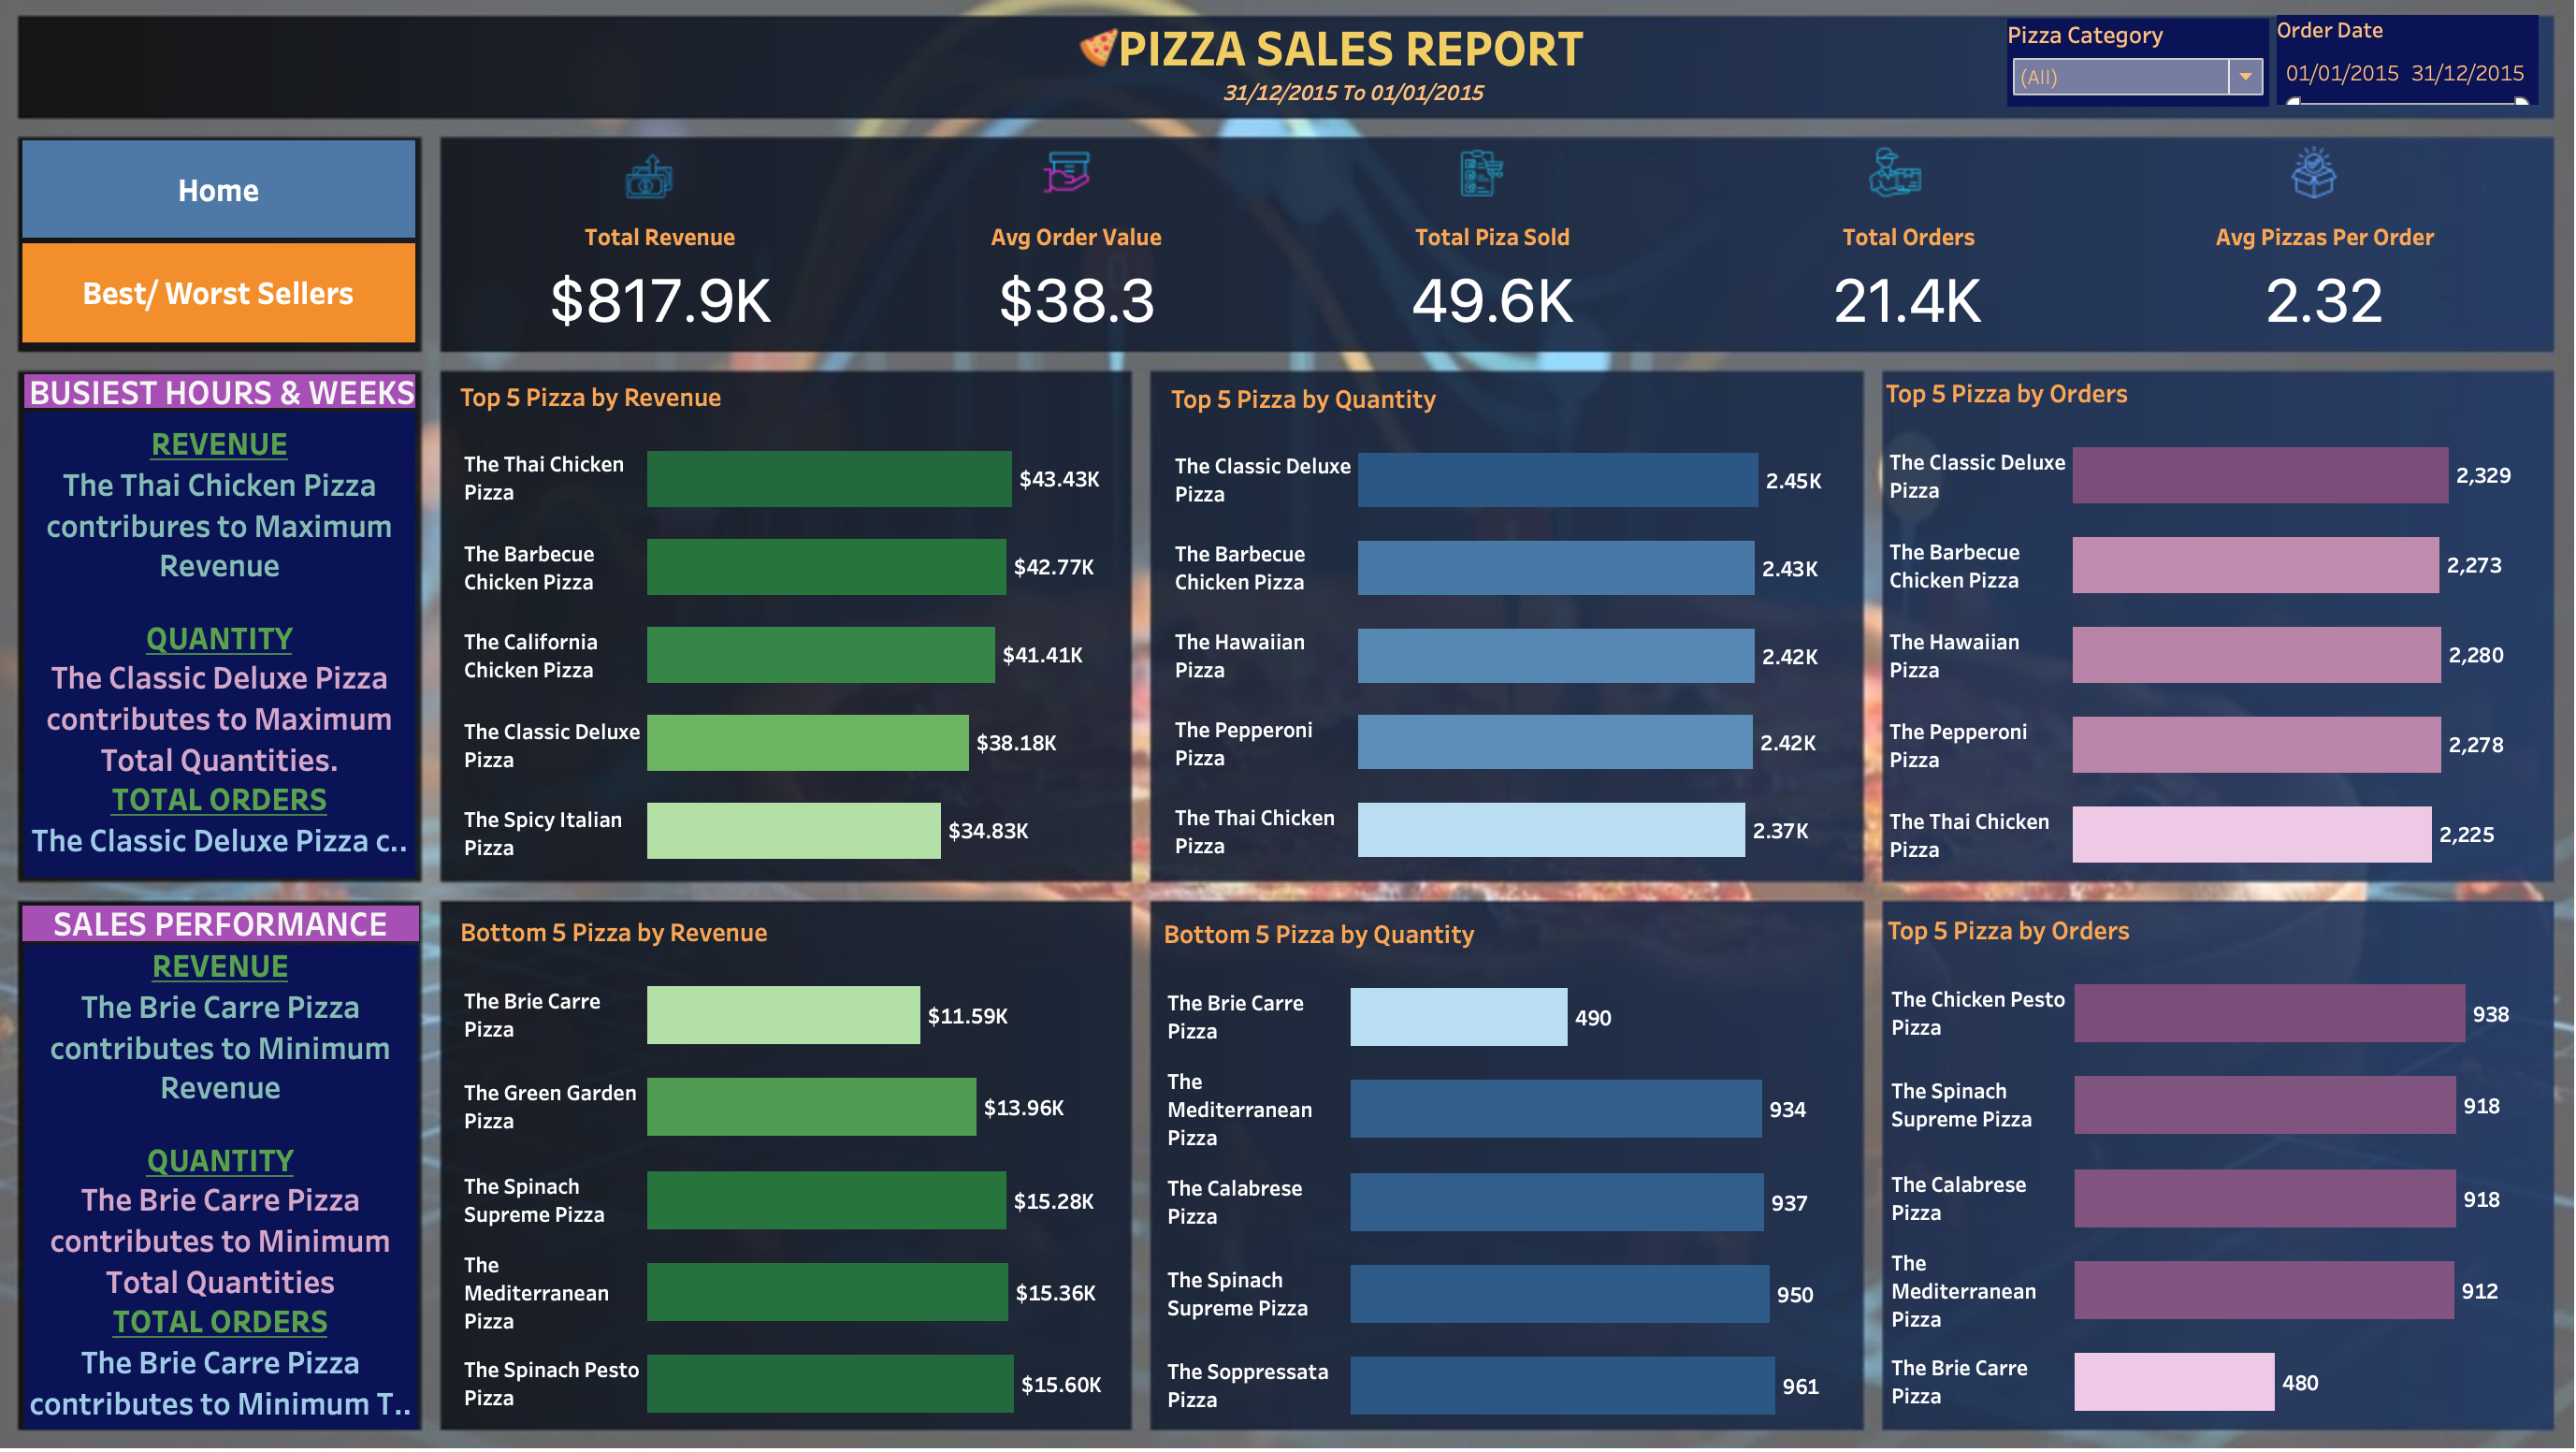

Layout of this report page (visuals, bound fields, positions):
{"tool":"tableau","page":{"name":"Best/ Worst Sellers","canvas":[1400,800],"ordinal":0},"visuals":[{"type":"image","param":"/Users/muhammedmurshid/Documents/Projects/piza/FILES/Pizza Sales Images/Pizza Ta","box":[8,8,1384,784]},{"type":"filter","title":"Date Range","param":"[federated.1atx9nq1vsrr8v107hsxd0hf8qi8].[none:order_date:qk]","box":[1229,21,140,48]},{"type":"text","box":[537.2,23.1,395.5,30.2]},{"type":"filter","title":"Date Range","param":"[federated.1atx9nq1vsrr8v107hsxd0hf8qi8].[none:pizza_category:nk]","box":[1085,23.1,140,47.1]},{"type":"image","param":"/Users/muhammedmurshid/Documents/Projects/piza/FILES/Pizza Sales Images/pizza-sl","box":[588.9,28.4,24.5,21.3]},{"type":"worksheet","title":"Date Range","mark":"Automatic","box":[626.5,48,217.9,26.7]},{"type":"dashboard-object","box":[24,88,210,52]},{"type":"image","param":"/Users/muhammedmurshid/Documents/Projects/piza/FILES/Pizza Sales Images/shipping","box":[561.6,91.4,41,28.5]},{"type":"image","param":"/Users/muhammedmurshid/Documents/Projects/piza/FILES/Pizza Sales Images/delivery","box":[1004.7,91.4,41,28.5]},{"type":"image","param":"/Users/muhammedmurshid/Documents/Projects/piza/FILES/Pizza Sales Images/order (1","box":[1229.1,91.4,41,28.5]},{"type":"image","param":"/Users/muhammedmurshid/Documents/Projects/piza/FILES/Pizza Sales Images/profit-g","box":[339.5,92.6,41,28.5]},{"type":"image","param":"/Users/muhammedmurshid/Documents/Projects/piza/FILES/Pizza Sales Images/order-de","box":[788.3,92.6,34.2,24.9]},{"type":"worksheet","title":"KPI Banner","mark":"Automatic","box":[254,129.4,1111.8,67.7]},{"type":"dashboard-object","box":[24,143,210,53]},{"type":"worksheet","title":"Top 5 Pizza by Orders","mark":"Bar","rows":["pizza_name"],"cols":["Calculation_207517468831629313"],"box":[1015.9,209.8,352.6,272.9]},{"type":"worksheet","title":"Top 5 Pizza by Revenue","mark":"Bar","rows":["pizza_name"],"cols":["Calculation_207517468831150080"],"box":[253.8,212.4,359.6,270.2]},{"type":"text","box":[25,213,209,18]},{"type":"worksheet","title":"Top 5 Pizza by Quantity ","mark":"Bar","rows":["pizza_name"],"cols":["quantity"],"box":[634,213,367,268]},{"type":"text","box":[25,233,209,249]},{"type":"worksheet","title":"Bottom 5 Pizza by Orders","mark":"Bar","rows":["pizza_name"],"cols":["Calculation_207517468831629313"],"box":[1016.8,496.9,350.9,279.1]},{"type":"text","box":[24,497,212,19]},{"type":"worksheet","title":"Bottom 5 Pizza by Revenue","mark":"Bar","rows":["pizza_name"],"cols":["Calculation_207517468831150080"],"box":[253.8,497.8,360.5,279.1]},{"type":"worksheet","title":"Bottom 5 Pizza by Quantity","mark":"Bar","rows":["pizza_name"],"cols":["quantity"],"box":[630,498.7,370.1,279.1]},{"type":"text","box":[25,518,210,259]}]}

Visuals, with their boxes in screenshot pixels (x1, y1, x2, y2), scaled from the page's 1400x800 canvas onto the 2576x1452 screenshot:
image: 15, 15, 2561, 1437
"Date Range" filter: 2262, 38, 2519, 125
text: 989, 42, 1716, 96
"Date Range" filter: 1996, 42, 2254, 127
image: 1083, 51, 1129, 90
"Date Range" worksheet: 1152, 87, 1554, 136
dashboard-object: 44, 160, 430, 254
image: 1034, 166, 1108, 218
image: 1848, 166, 1924, 218
image: 2262, 166, 2337, 218
image: 625, 168, 700, 220
image: 1451, 168, 1513, 213
"KPI Banner" worksheet: 468, 235, 2513, 357
dashboard-object: 44, 259, 430, 356
"Top 5 Pizza by Orders" worksheet (Bar marks): 1869, 381, 2518, 876
"Top 5 Pizza by Revenue" worksheet (Bar marks): 467, 385, 1129, 876
text: 46, 386, 430, 419
"Top 5 Pizza by Quantity " worksheet (Bar marks): 1166, 386, 1842, 873
text: 46, 423, 430, 875
"Bottom 5 Pizza by Orders" worksheet (Bar marks): 1871, 902, 2516, 1408
text: 44, 902, 434, 937
"Bottom 5 Pizza by Revenue" worksheet (Bar marks): 467, 904, 1130, 1410
"Bottom 5 Pizza by Quantity" worksheet (Bar marks): 1159, 905, 1840, 1412
text: 46, 940, 432, 1410
